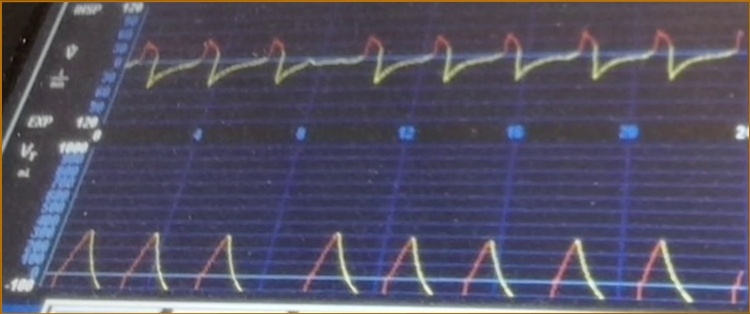Ineffective_effort Flow: (134, 18, 747, 115)
Ineffective_effort Volume: (52, 215, 744, 300)
